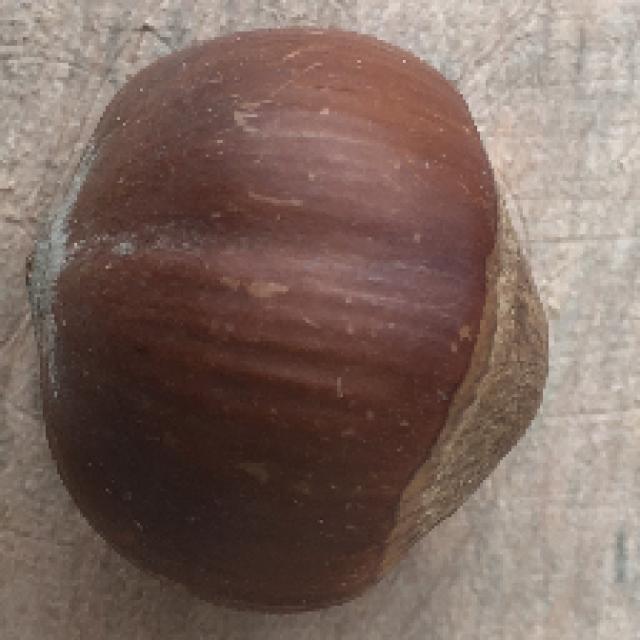DamagedHazelnut: (19, 29, 553, 607)
